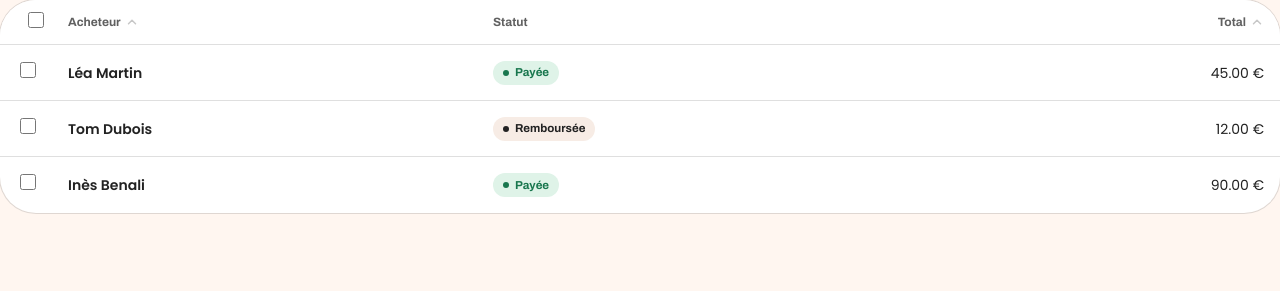
it: tableau Evoly › sélection : barre d'actions groupées avec les bonnes lignes, tout sélectionner, annuler
Click the checkbox named "Sélectionner la ligne": (28, 70) [20,62,36,78]
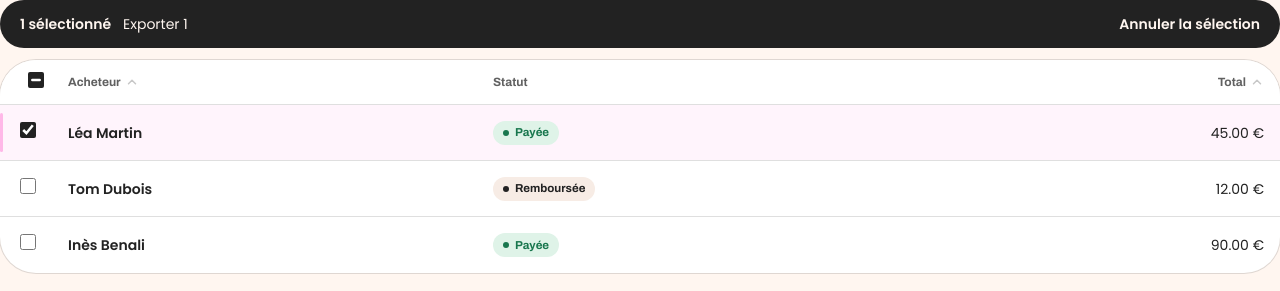
Result: the text "1 sélectionné" is shown at [20,14,111,34]
Result: the button "Exporter 1" is shown at [123,14,188,34]
Click the checkbox named "Tout sélectionner": (36, 80) [28,72,44,88]
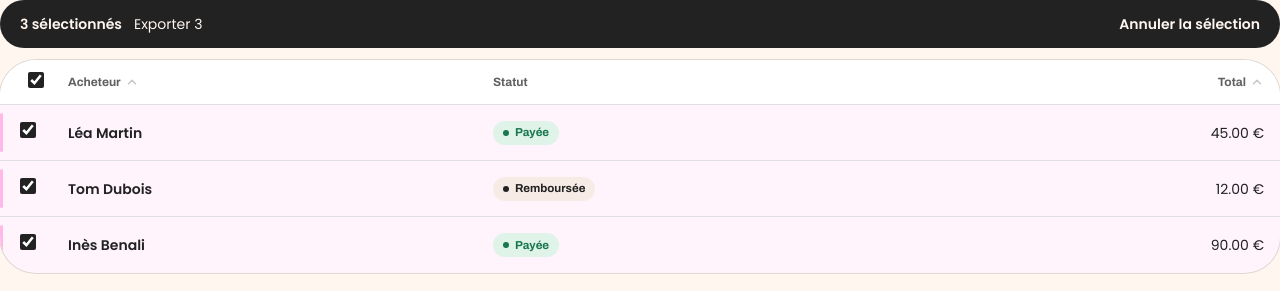
Result: the text "3 sélectionnés" is shown at [20,14,122,34]
Click the button "Annuler la sélection": (1190, 24) [1107,8,1272,40]
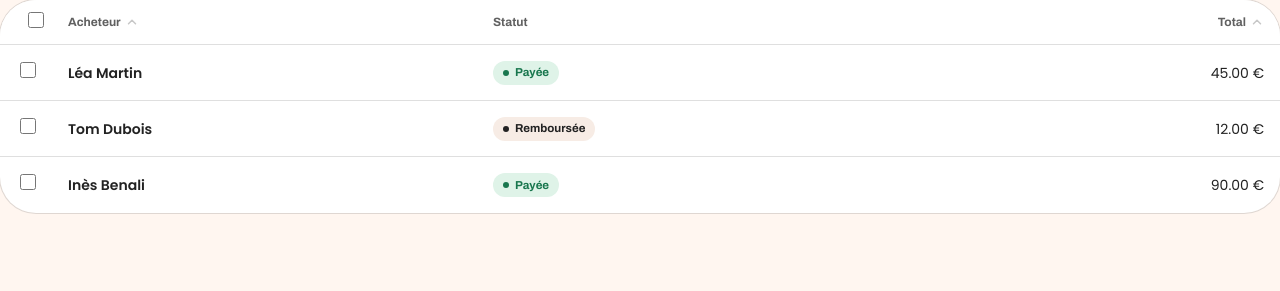
Result: the text "sélection" is gone
